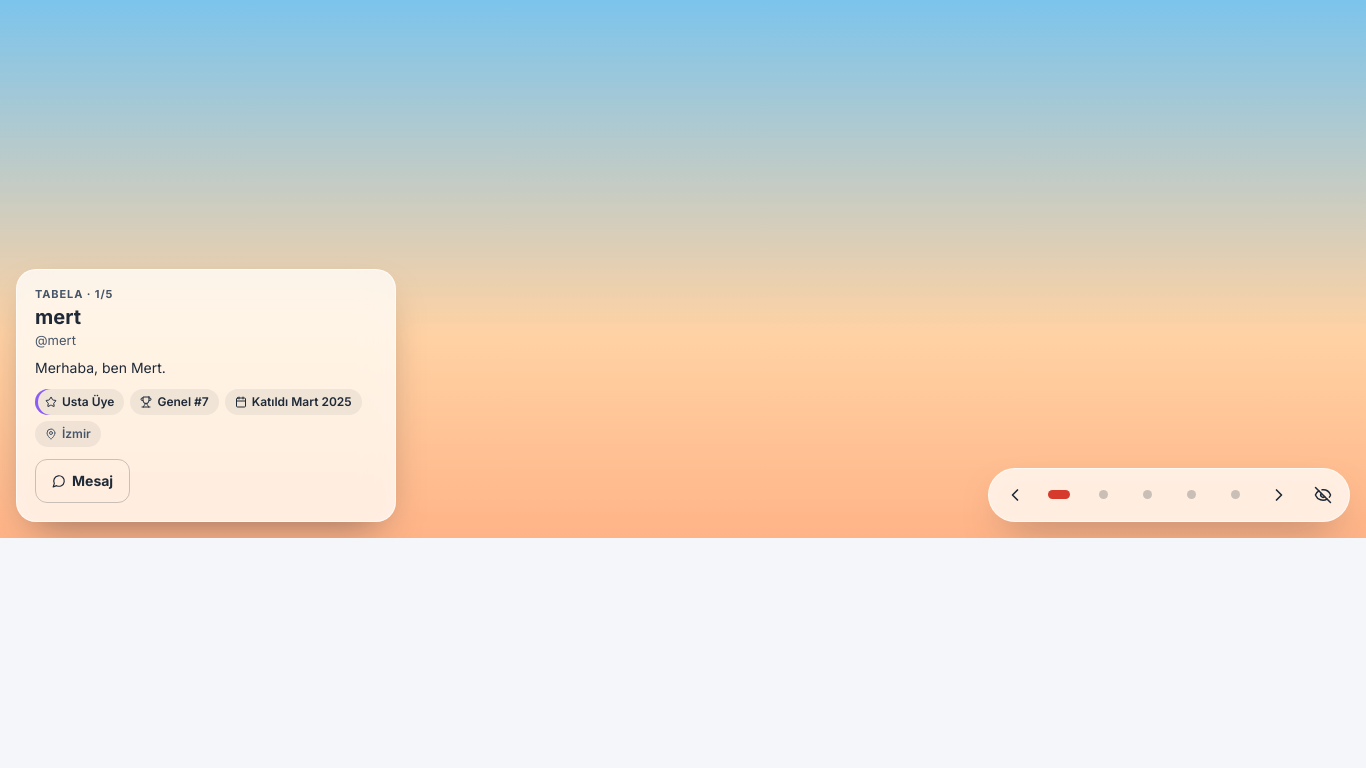
Test: ProfileIslandHero — durak gezintisi › sonraki/önceki/nokta düğmeleri sahneyi yönlendirir ve kartı değiştirir
This screenshot has width=1366, height=768.
Expected: the heading "mert" is shown, x1=35 y1=305 x2=81 y2=329
Click the button named "Sonraki durak" at (1279, 495), box x1=1257 y1=473 x2=1301 y2=517
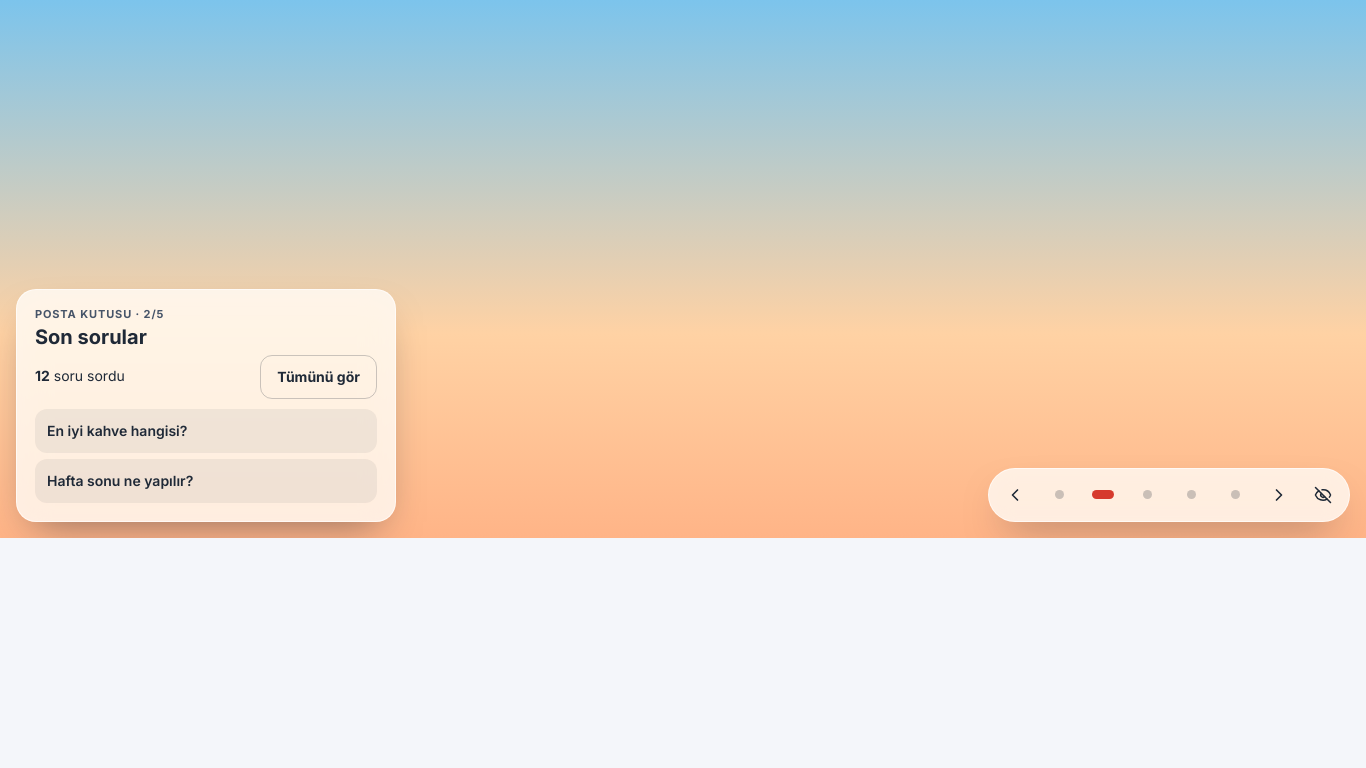
Now the heading "Son sorular" is shown, box x1=35 y1=325 x2=147 y2=349
Click the button named "Rozetler durağına git" at (1191, 495), box x1=1169 y1=473 x2=1213 y2=517
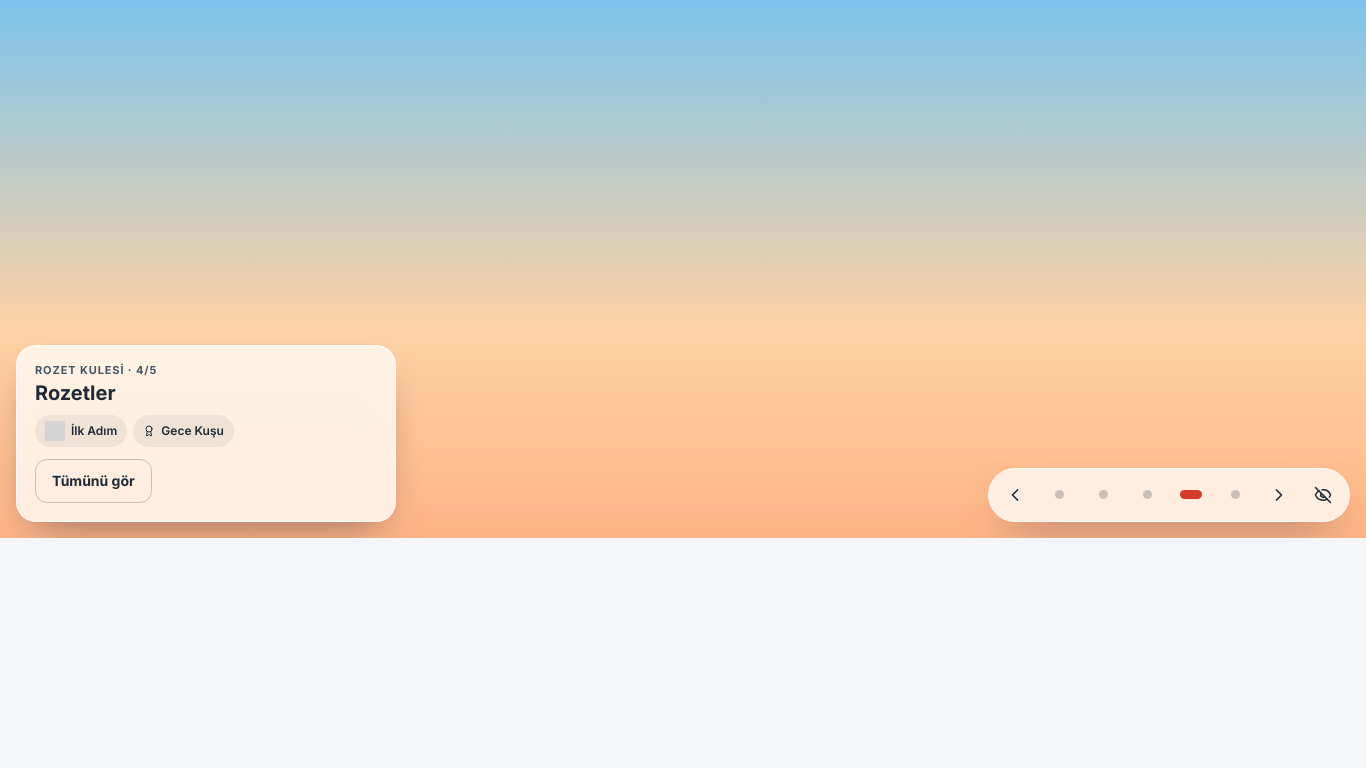
Now the heading "Rozetler" is shown, box x1=35 y1=381 x2=116 y2=405
Click the button named "Önceki durak" at (1015, 495), box x1=993 y1=473 x2=1037 y2=517
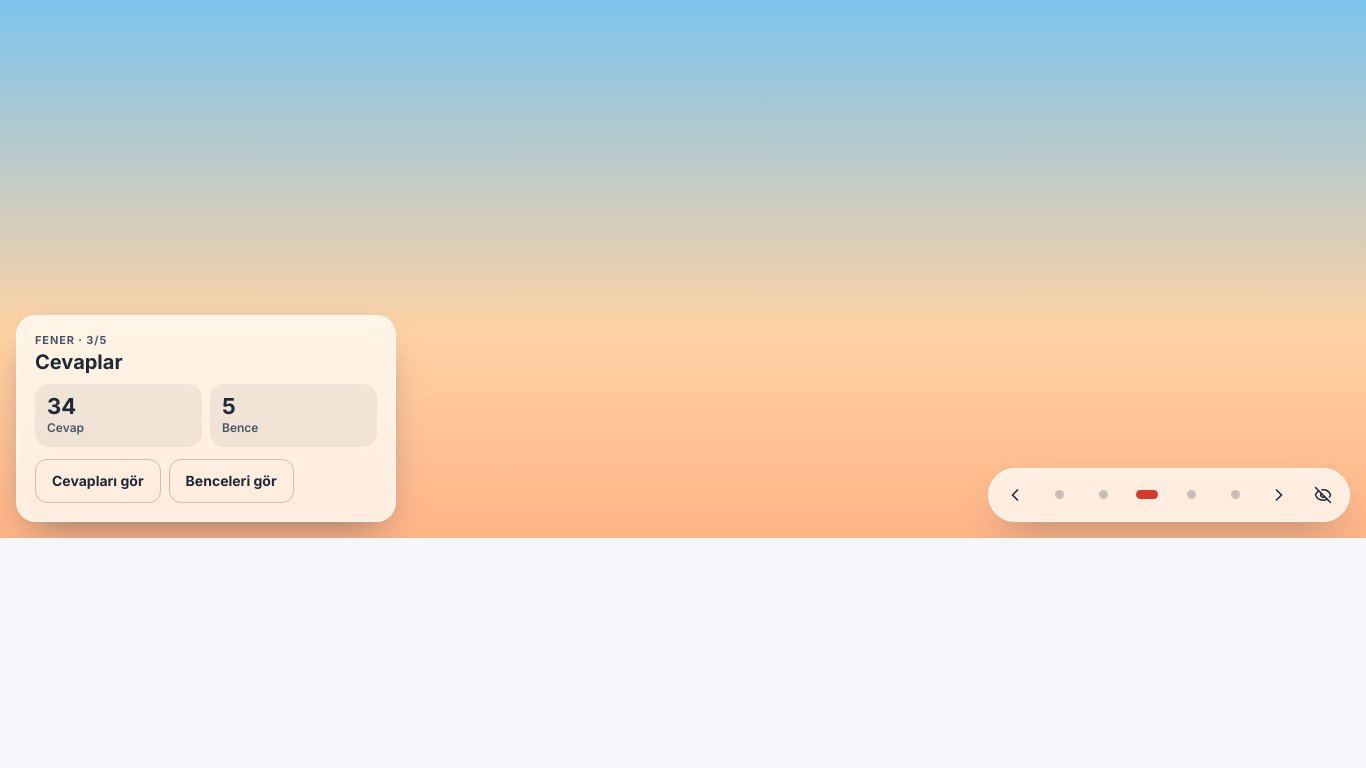
Now the heading "Cevaplar" is shown, box x1=35 y1=350 x2=122 y2=374
